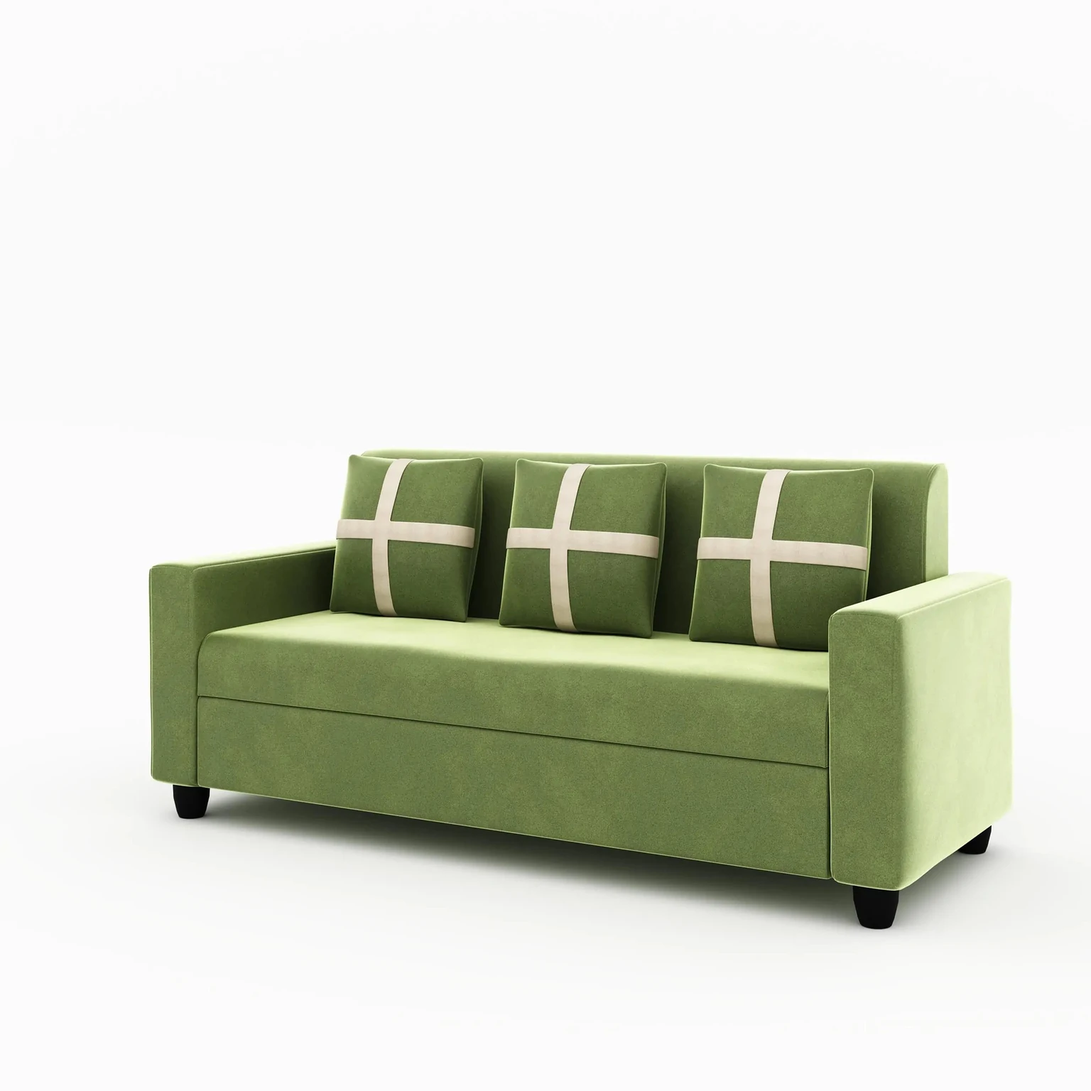3seatersofa: (149, 452, 1011, 928)
backrest: (366, 448, 947, 634)
base: (197, 697, 830, 877)
leftarmrest: (829, 576, 1011, 895)
leg: (853, 886, 899, 929), (173, 786, 209, 819), (959, 827, 991, 854)
pillow: (690, 465, 872, 650), (500, 460, 666, 636), (330, 457, 481, 620)
rightarmrest: (151, 546, 332, 786)
seat: (197, 612, 828, 771)
